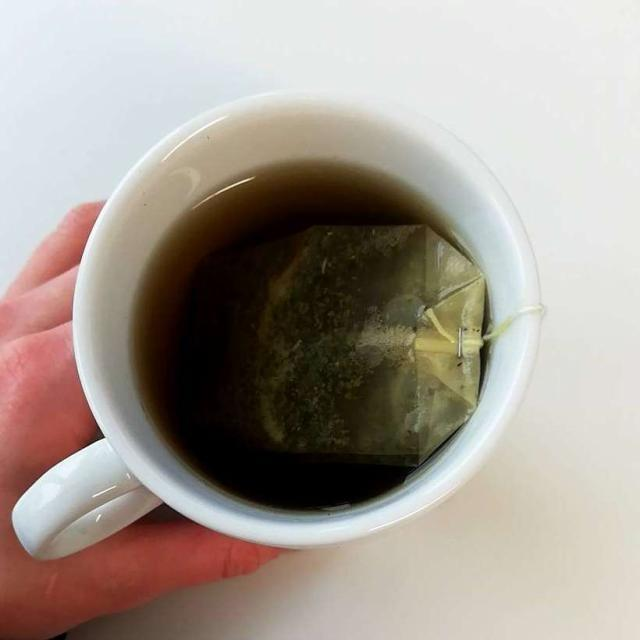tea: (132, 165, 491, 503)
